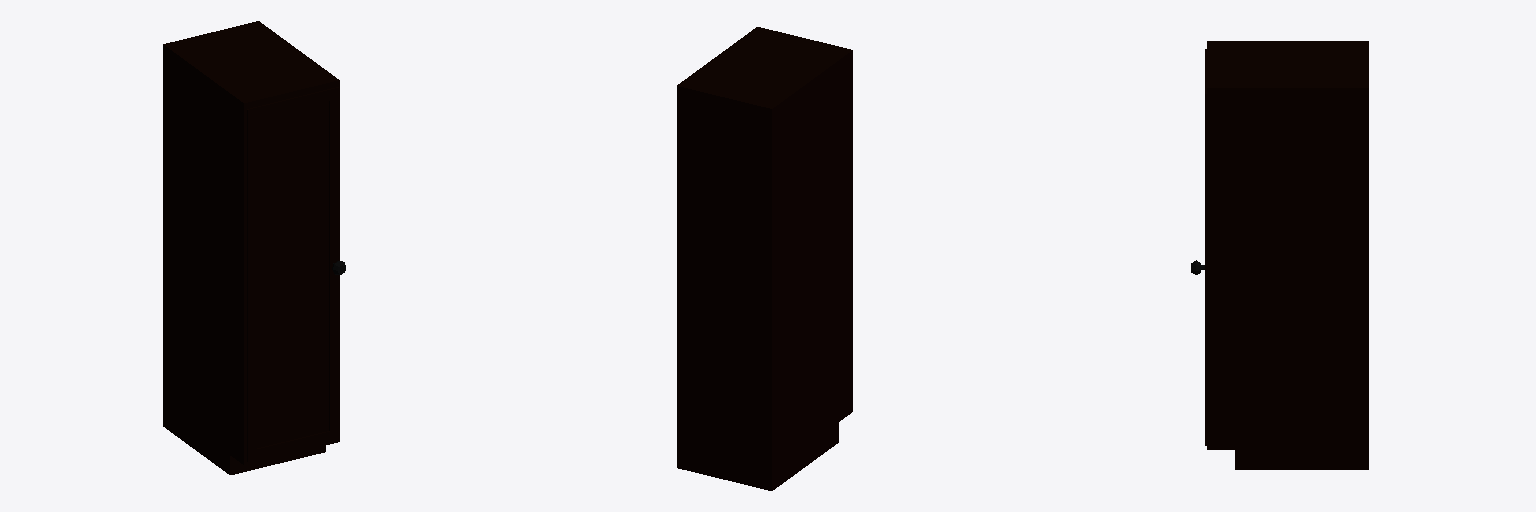
Rendered from SingleDoorTallCabinet1.obj.
3 renders of one model, left to right at view 1: azimuth 30°, elevation 25°; view 2: azimuth 150°, elevation 25°; view 3: azimuth 270°, elevation 25°, orthographic.
Visible parts, largest first — view 1: SingleDoorTallCabinet1_Cube.002, Door1SingleDoorTallCabinet1_Cube.004; view 2: SingleDoorTallCabinet1_Cube.002; view 3: SingleDoorTallCabinet1_Cube.002, Door1SingleDoorTallCabinet1_Cube.004.
Part boxes in pixels (left/top/right/bottom): SingleDoorTallCabinet1_Cube.002: left=163, top=21, right=339, bottom=474; Door1SingleDoorTallCabinet1_Cube.004: left=247, top=87, right=345, bottom=461; SingleDoorTallCabinet1_Cube.002: left=677, top=27, right=852, bottom=490; SingleDoorTallCabinet1_Cube.002: left=1207, top=41, right=1368, bottom=469; Door1SingleDoorTallCabinet1_Cube.004: left=1191, top=49, right=1206, bottom=445.
Size of the model in its own units: 0.4754 by 1.79 by 0.7519.